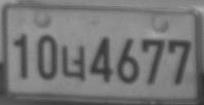0: (35, 33, 59, 79)
1: (11, 33, 33, 78)
4: (88, 36, 114, 84)
6: (116, 37, 140, 84)
7: (140, 38, 166, 85), (167, 38, 193, 85)
너: (61, 43, 86, 81)
